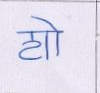o_matra: (50, 21, 63, 56)
